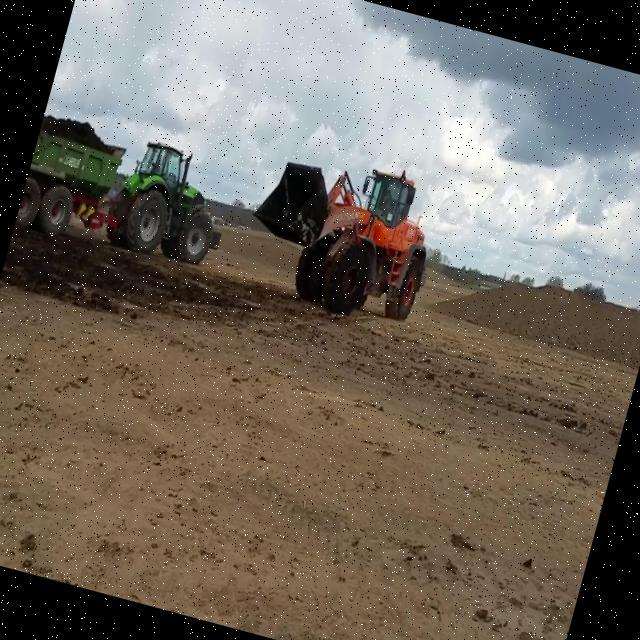Dump Truck: (13, 108, 240, 280)
Loader: (230, 129, 454, 332)
